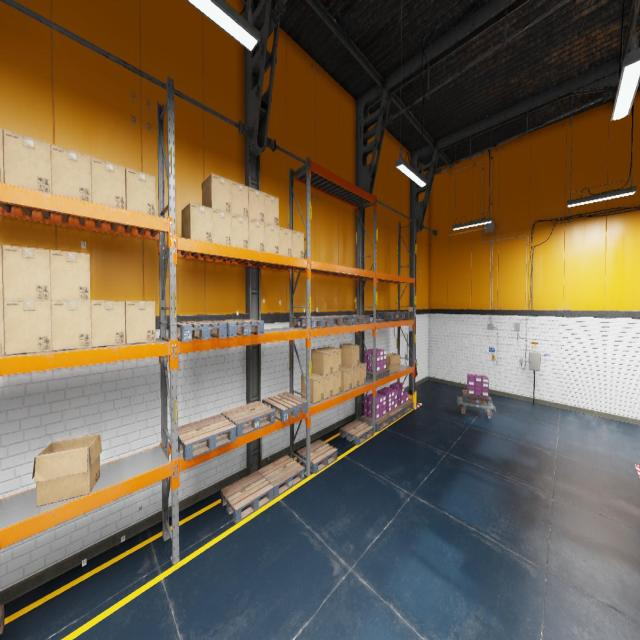box: (32, 434, 102, 506), (4, 129, 52, 193), (2, 245, 51, 300), (4, 300, 52, 355), (51, 144, 91, 201), (51, 300, 91, 351), (50, 250, 90, 300), (91, 157, 126, 209), (91, 300, 125, 348), (125, 167, 156, 216), (124, 300, 156, 344), (181, 202, 212, 242), (202, 173, 231, 213), (212, 209, 231, 246), (301, 372, 323, 403), (231, 180, 248, 218), (231, 214, 249, 249), (311, 348, 333, 376), (249, 187, 264, 222), (321, 347, 341, 372), (264, 192, 279, 225), (249, 219, 264, 251), (340, 343, 359, 367), (264, 223, 278, 254), (341, 365, 359, 389), (279, 226, 292, 256), (292, 230, 304, 258), (341, 366, 352, 392), (0, 300, 5, 355), (387, 353, 400, 373), (323, 374, 332, 399), (0, 128, 4, 182), (333, 371, 341, 396), (359, 362, 366, 386), (0, 244, 3, 299)
pallets: (220, 471, 274, 523), (178, 414, 236, 460), (258, 455, 304, 498), (221, 401, 275, 436), (296, 439, 338, 474), (262, 392, 308, 422), (168, 321, 227, 341), (212, 319, 264, 337), (340, 420, 374, 445), (361, 414, 391, 432), (462, 389, 491, 406), (294, 316, 332, 328), (316, 315, 351, 326), (366, 368, 390, 380), (386, 407, 403, 422), (376, 311, 403, 320), (344, 315, 370, 324), (398, 401, 413, 414), (387, 311, 413, 318), (0, 604, 4, 634)
